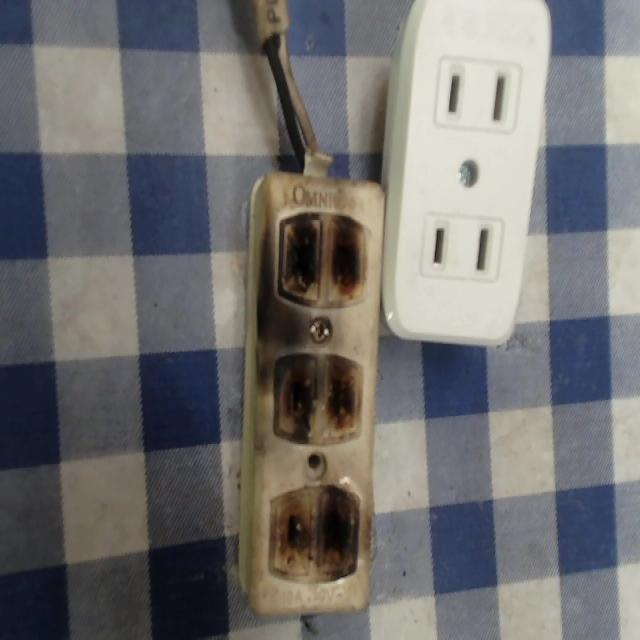-: (271, 205, 365, 319), (270, 348, 364, 447), (266, 482, 359, 582)
